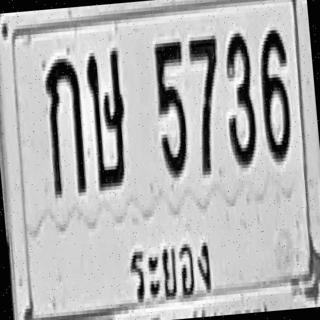A01: (42, 52, 88, 196)
A39: (84, 45, 130, 189)
N03: (220, 29, 259, 169)
N05: (152, 38, 192, 178)
N06: (256, 26, 294, 162)
N07: (187, 32, 227, 175)
P53: (119, 221, 220, 311)
